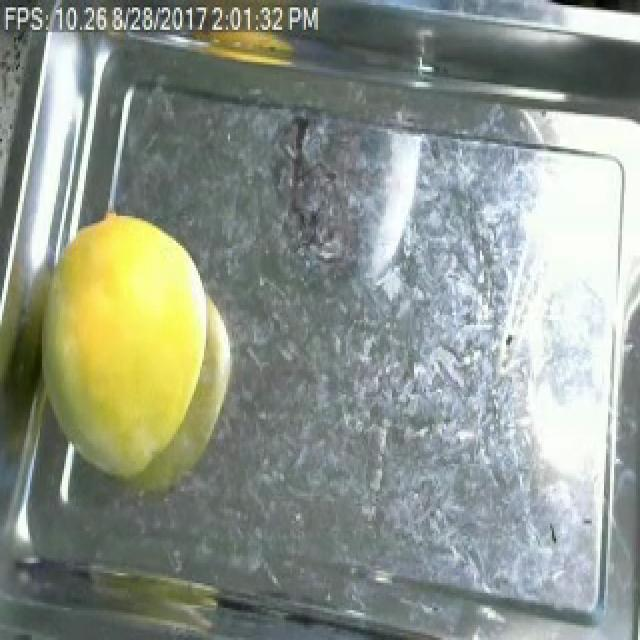fruit: (6, 196, 250, 504), (2, 543, 238, 640)
